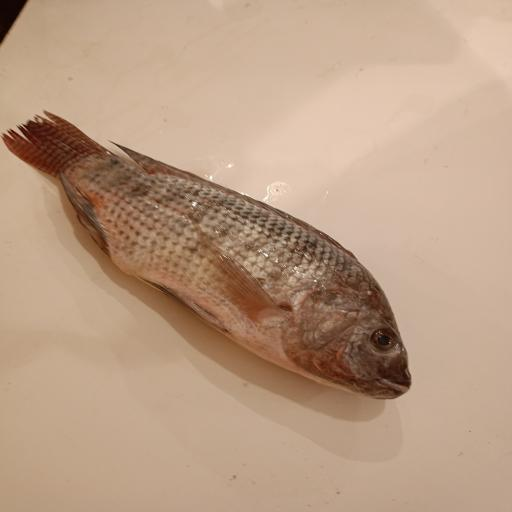Tilapia: (1, 109, 412, 400)
